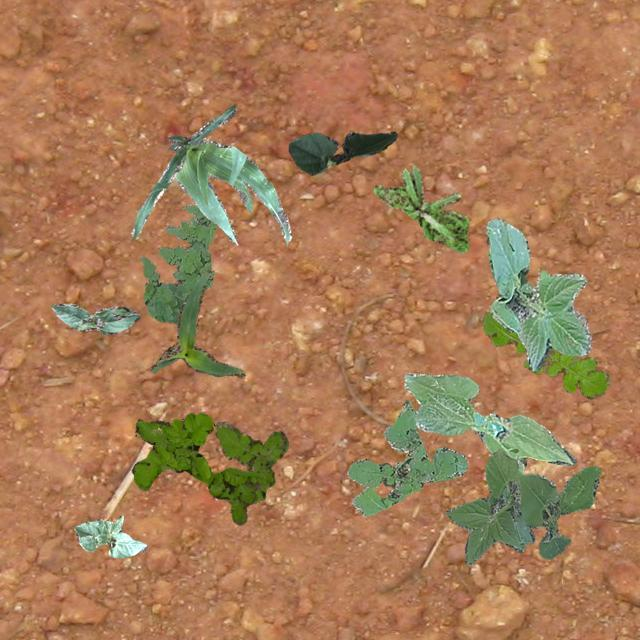crop: (130, 105, 290, 242), (404, 372, 576, 473), (484, 216, 590, 370), (150, 268, 243, 376), (288, 130, 397, 173), (74, 514, 146, 558), (50, 302, 138, 334)
weed: (444, 448, 600, 564), (130, 412, 264, 524), (346, 400, 466, 514), (482, 312, 610, 398), (140, 204, 214, 324), (372, 165, 468, 252), (214, 420, 288, 502)
